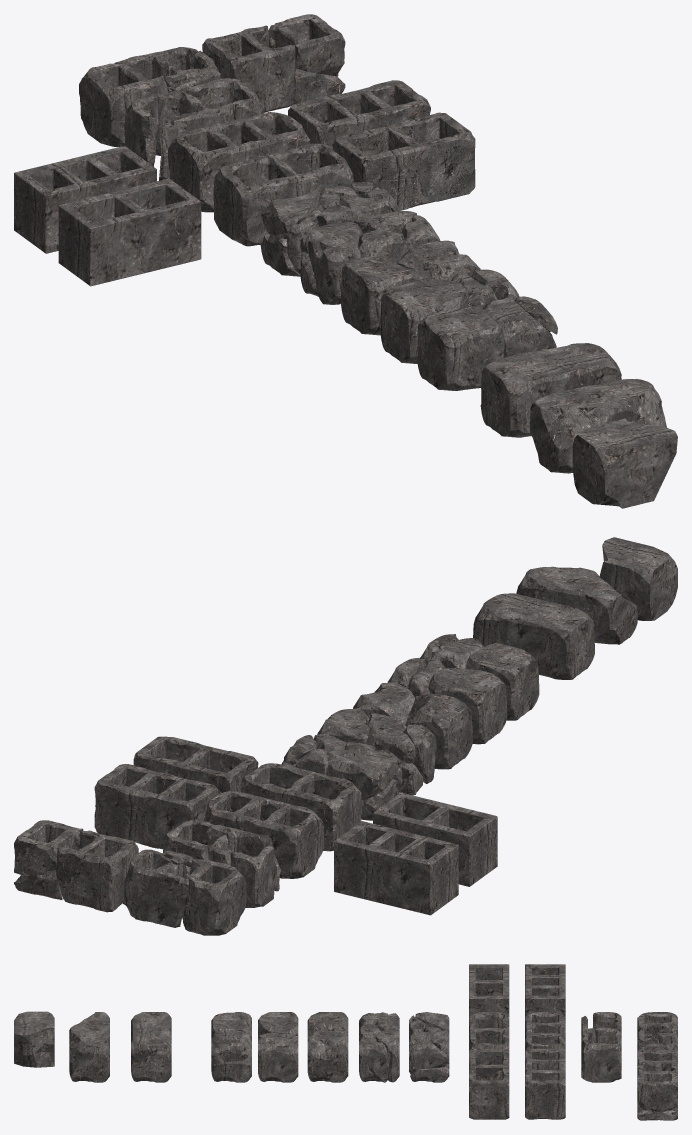
The model's file is cinder_block_pack.fbx.
3 renders of one model, top to bottom at view 1: azimuth 30°, elevation 25°; view 2: azimuth 150°, elevation 25°; view 3: azimuth 270°, elevation 25°, orthographic. The views are drawn at different scales.
Parts seen in each view (by area): view 1: Cube_3, Cube_4, Cube, Cube_10, Cube_2_2, Cube_2, Cube_6, Cube_1, Cube_6_fracturepart1_2, Cube_5, Cube_6_fracturepart3, Cube_8_fracturepart4 (+24 smaller); view 2: Cube_2, Cube_5, Cube_2_2, Cube_1, Cube_3, Cube, Cube_6, Cube_6_fracturepart3, Cube_10, Cube_4, Cube_8_fracturepart4, Cube_6_fracturepart1_3 (+21 smaller); view 3: Cube_4, Cube_5, Cube_2_2, Cube_6, Cube_10, Cube_6_fracturepart2_4, Cube_2, Cube_3, Cube_6_fracturepart2_3, Cube_6_fracturepart2, Cube_9_fracturepart5, Cube (+24 smaller).
Boxes of the visible parts, bbox=[...] form: Cube_3: bbox=[58, 178, 201, 286]; Cube_4: bbox=[332, 112, 475, 210]; Cube: bbox=[213, 143, 353, 246]; Cube_10: bbox=[572, 418, 677, 508]; Cube_2_2: bbox=[480, 343, 621, 437]; Cube_2: bbox=[14, 145, 156, 253]; Cube_6: bbox=[530, 379, 666, 473]; Cube_1: bbox=[168, 112, 309, 212]; Cube_6_fracturepart1_2: bbox=[417, 307, 504, 390]; Cube_5: bbox=[288, 80, 430, 148]; Cube_6_fracturepart3: bbox=[202, 25, 295, 112]; Cube_8_fracturepart4: bbox=[79, 63, 168, 146]; Cube_2: bbox=[334, 821, 458, 915]; Cube_5: bbox=[94, 764, 219, 849]; Cube_2_2: bbox=[473, 593, 594, 679]; Cube_1: bbox=[203, 791, 323, 878]; Cube_3: bbox=[373, 792, 497, 886]; Cube: bbox=[241, 763, 362, 851]; Cube_6: bbox=[516, 566, 637, 644]; Cube_6_fracturepart3: bbox=[56, 830, 138, 912]; Cube_10: bbox=[599, 537, 677, 620]; Cube_4: bbox=[133, 736, 258, 793]; Cube_8_fracturepart4: bbox=[182, 859, 246, 935]; Cube_6_fracturepart1_3: bbox=[428, 667, 507, 744]; Cube_4: bbox=[469, 1048, 509, 1119]; Cube_5: bbox=[525, 1048, 565, 1119]; Cube_2_2: bbox=[131, 1012, 171, 1082]; Cube_6: bbox=[69, 1012, 109, 1082]; Cube_10: bbox=[14, 1011, 54, 1067]; Cube_6_fracturepart2_4: bbox=[307, 1030, 348, 1082]; Cube_2: bbox=[525, 964, 565, 1017]; Cube_3: bbox=[469, 964, 509, 1016]; Cube_6_fracturepart2_3: bbox=[258, 1039, 298, 1082]; Cube_6_fracturepart2: bbox=[637, 1069, 677, 1112]; Cube_9_fracturepart5: bbox=[581, 1036, 620, 1082]; Cube: bbox=[469, 1012, 509, 1050].
Bounding box in the file's own units: 126 × 18.06 × 296.
Materials: 1 (1 with a texture image).
